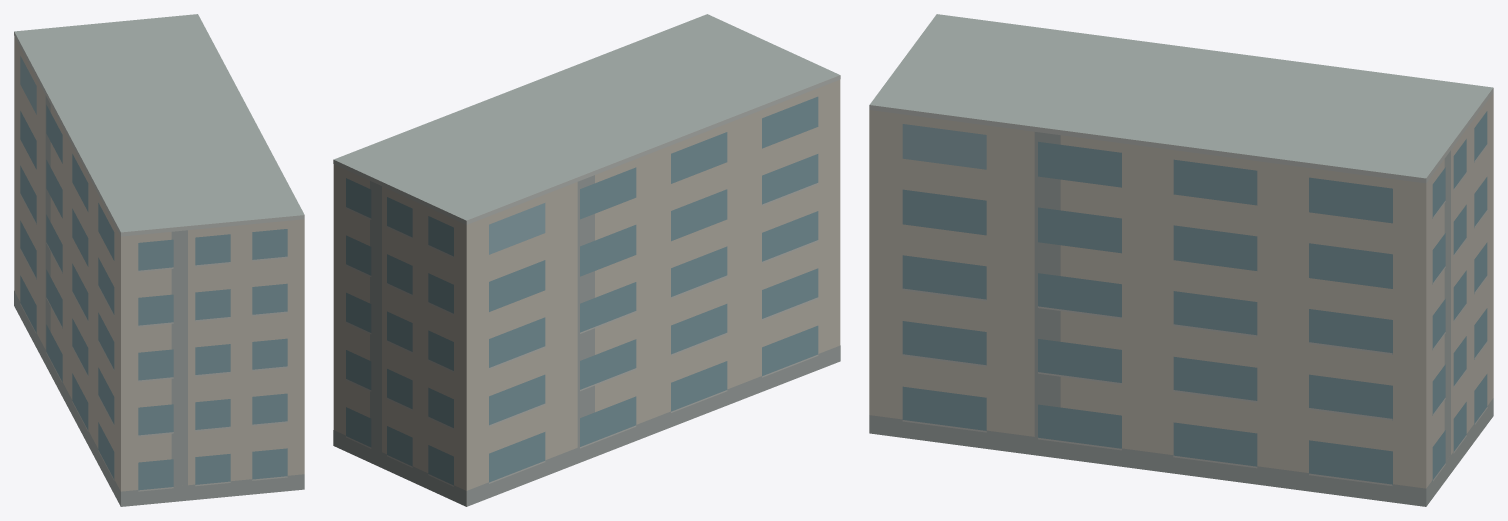
The model's file is residential-b33fa604-080a-4214-b0a6-bd4df2f12460.glb.
3 renders of one model, left to right at view 1: azimuth 30°, elevation 25°; view 2: azimuth 150°, elevation 25°; view 3: azimuth 270°, elevation 25°, orthographic. The views are drawn at different scales.
Parts seen in each view (by area): view 1: residential-b33fa604-080a-4214-b0a6-bd4df2f12460.tmp; view 2: residential-b33fa604-080a-4214-b0a6-bd4df2f12460.tmp; view 3: residential-b33fa604-080a-4214-b0a6-bd4df2f12460.tmp.
Part boxes in pixels (x1,y1,x2,y2): residential-b33fa604-080a-4214-b0a6-bd4df2f12460.tmp: (14, 14, 304, 506); residential-b33fa604-080a-4214-b0a6-bd4df2f12460.tmp: (333, 14, 840, 506); residential-b33fa604-080a-4214-b0a6-bd4df2f12460.tmp: (869, 14, 1493, 506).
Size of the model in its own units: 17.19 by 16 by 27.56.
